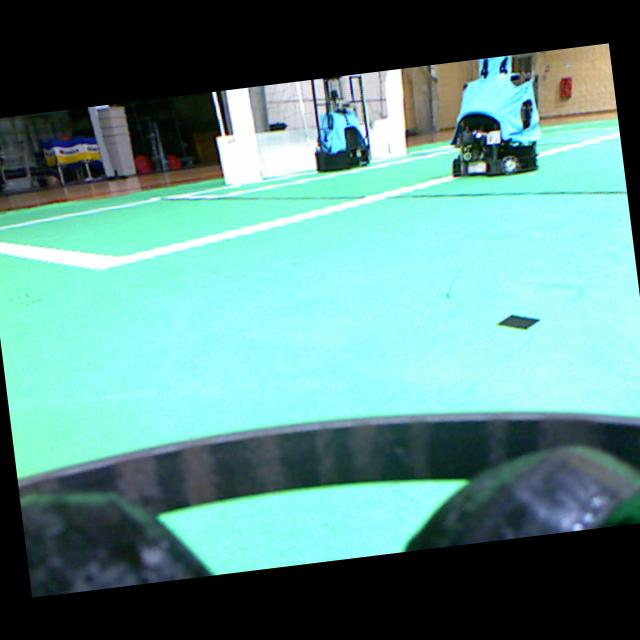goal: (225, 87, 261, 183), (384, 69, 405, 156)
